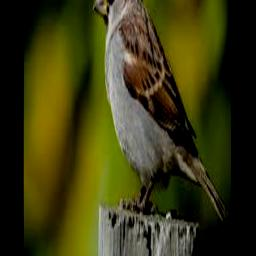Sparrow: (93, 0, 228, 221)
